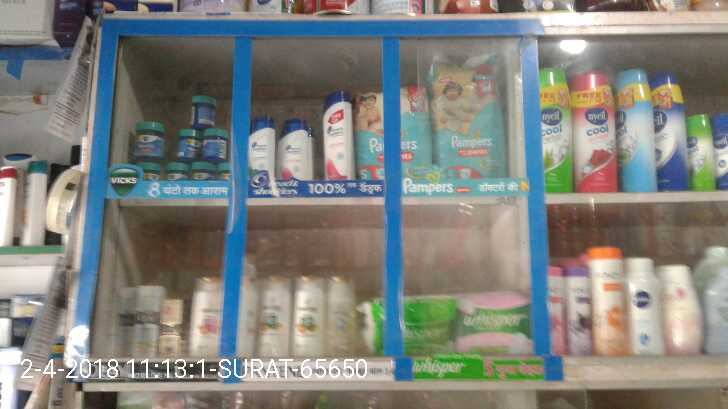vicks: (131, 92, 230, 182)
